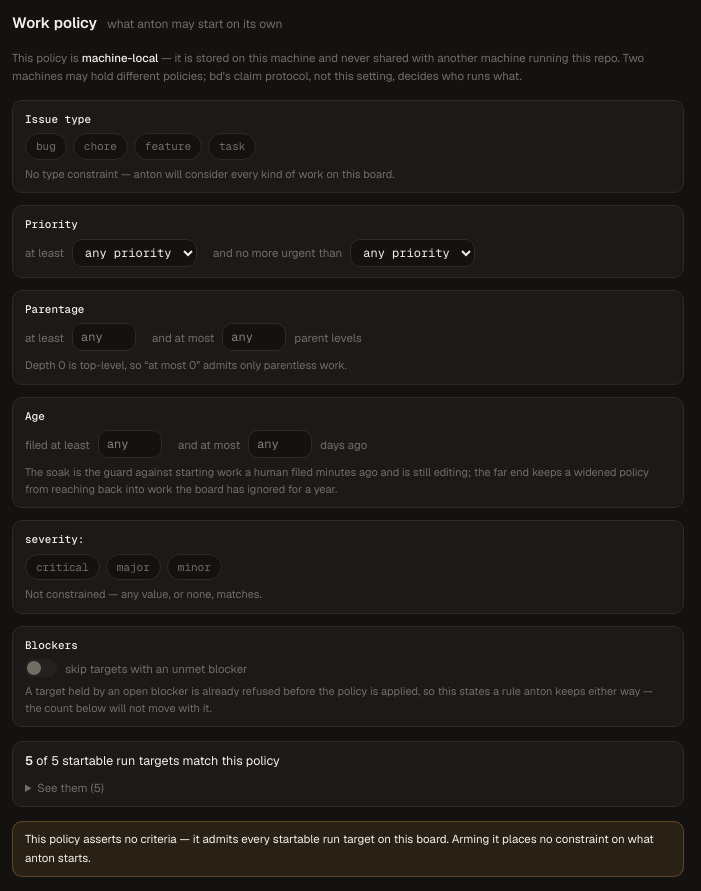
Scenario: what it refuses to arm › says out loud when a policy asserts nothing at all
Expected: the text "admits every startable run target" is shown, [25,831,654,865]
Click the switch labelled "bug": point(46, 147) [25,133,67,160]
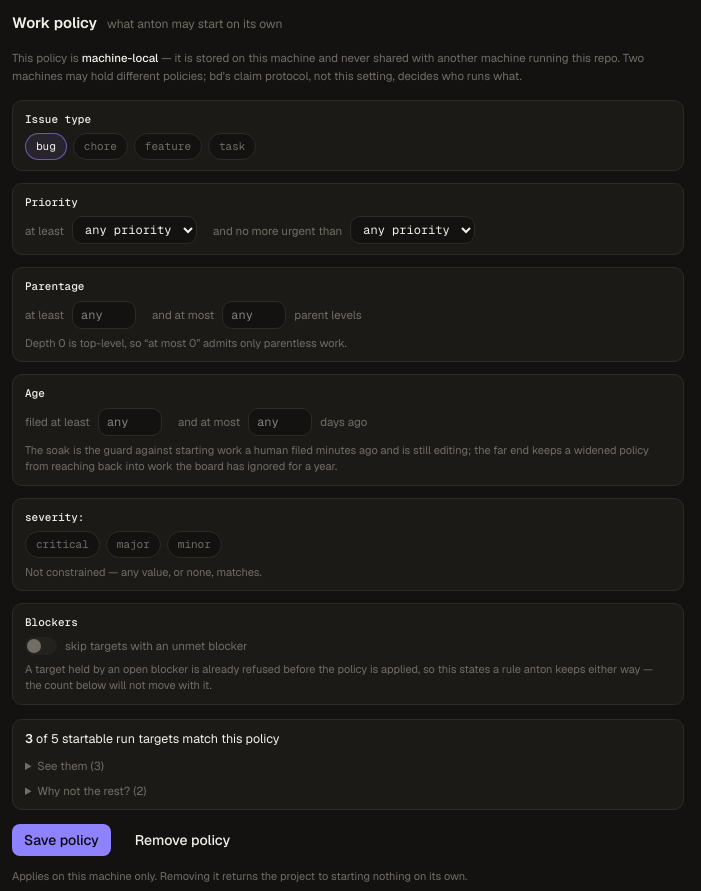
Expected: the text "admits every startable run target" is gone
